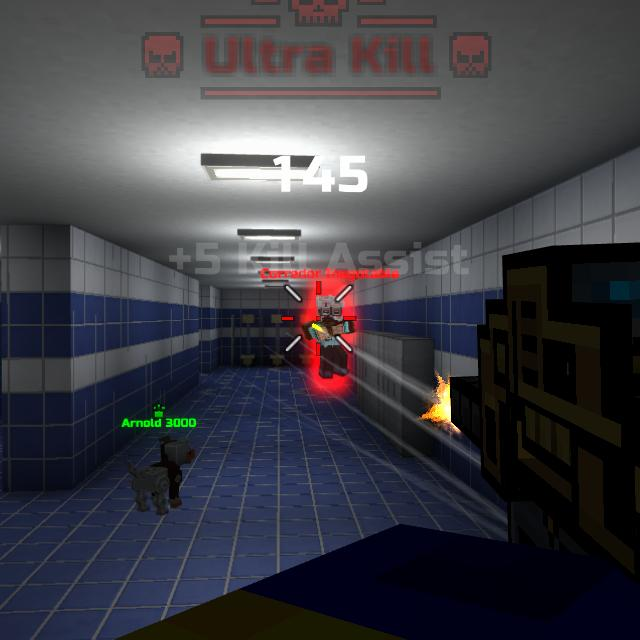Enemy: (304, 296, 356, 379)
